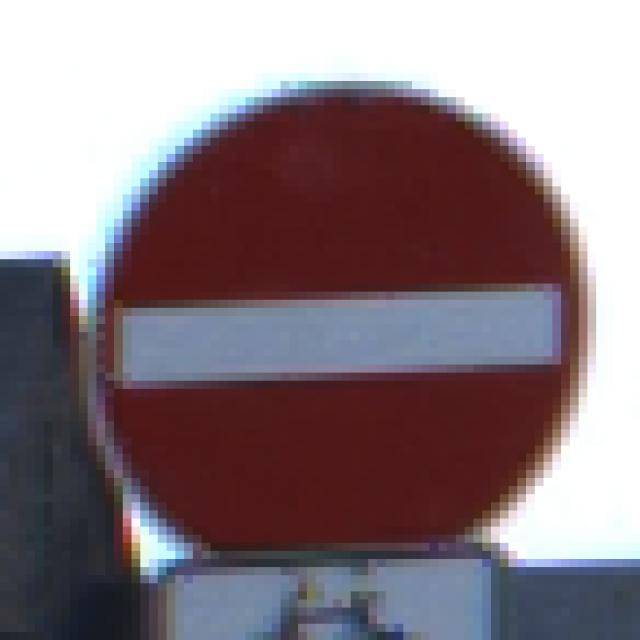No Entry: (63, 58, 589, 584)
